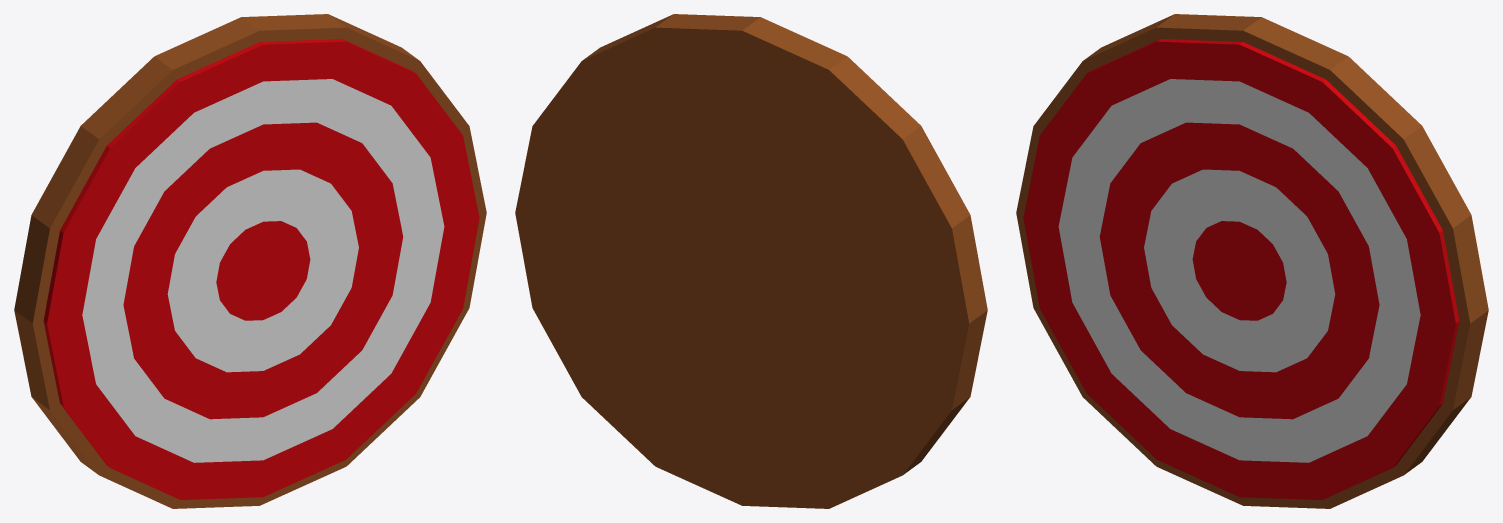
The model's file is Target.fbx.
The picture shows the model from 3 angles, left to right: view 1: azimuth 30°, elevation 25°; view 2: azimuth 150°, elevation 25°; view 3: azimuth 330°, elevation 25°; orthographic projection.
Visible parts, largest first — view 1: Target; view 2: Target; view 3: Target.
Boxes of the visible parts, left/top/right/bottom form: Target: left=14, top=14, right=486, bottom=508; Target: left=515, top=14, right=987, bottom=508; Target: left=1016, top=14, right=1488, bottom=508.
Bounding box in the file's own units: 140 × 140 × 11.78.
